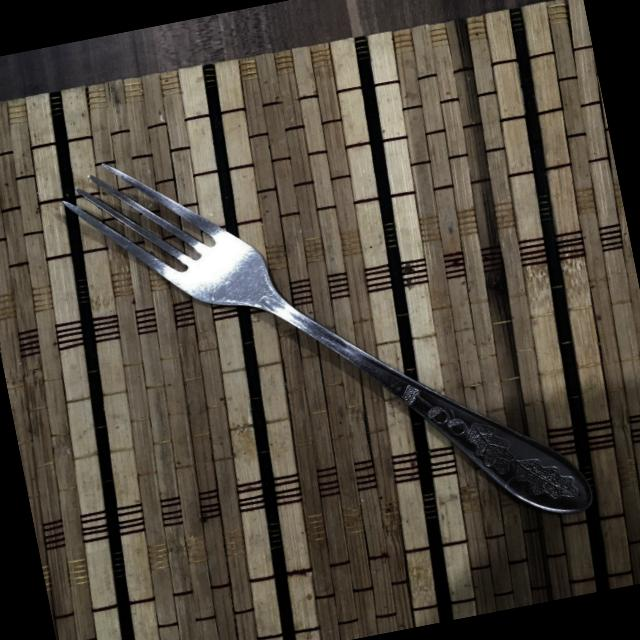fork: (53, 83, 595, 603)
